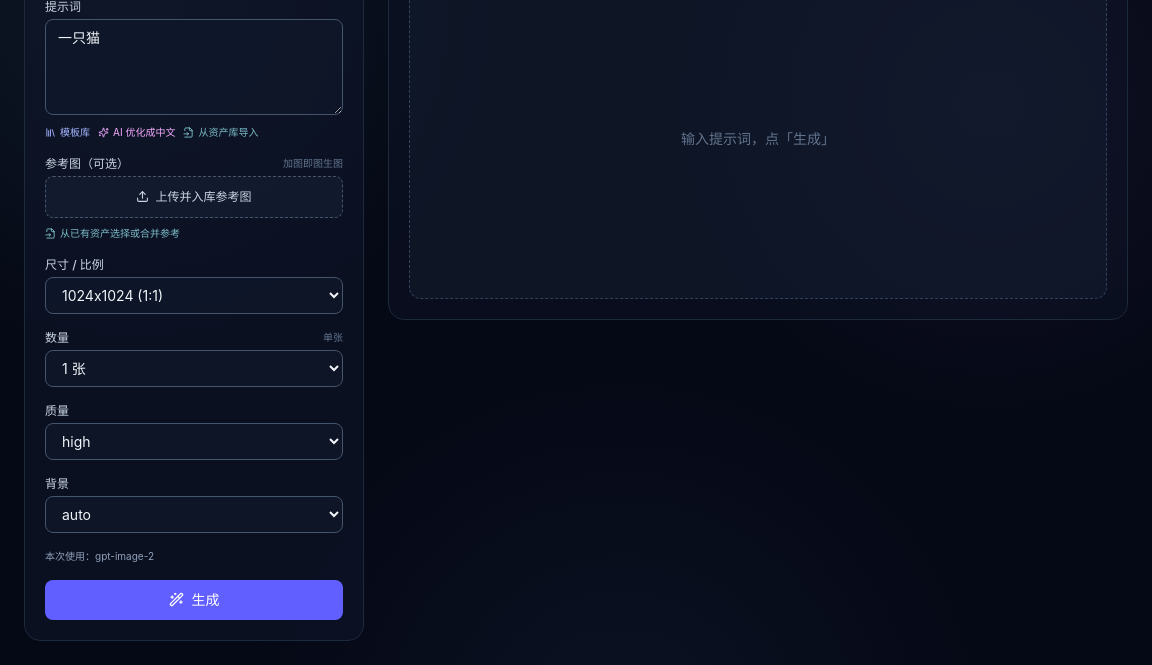
Test: GeneratePanel run progress › shows backend steps on the button and keeps them in the run log
(page scrolled)
Click the button "生成".
click(194, 600)  # box [45,580,343,620]
(page scrolled)
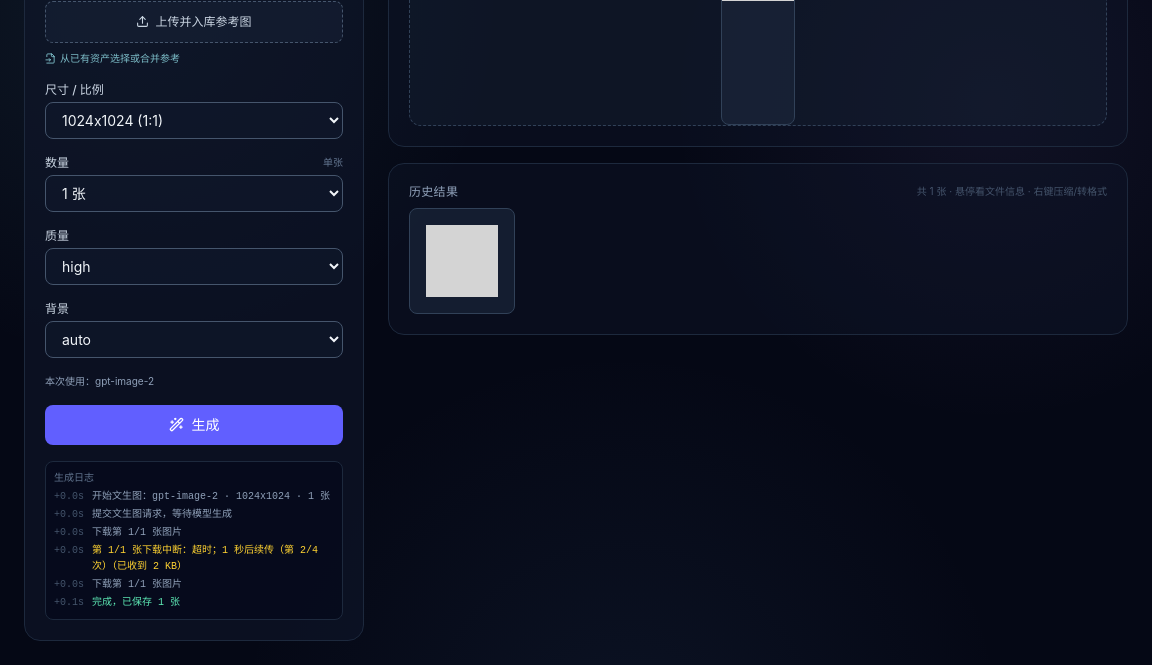
Expected: the list item "+0.0s 开始文生图：gpt-image-2 · 1024x1024 · 1 张" is shown, [54,488,334,504]
Expected: the list item "+0.0s 提交文生图请求，等待模型生成" is shown, [54,508,232,520]
Expected: the list item "+0.0s 第 1/1 张下载中断：超时；1 秒后续传（第 2/4 次）（已收到 2 KB）" is shown, [54,542,334,574]
